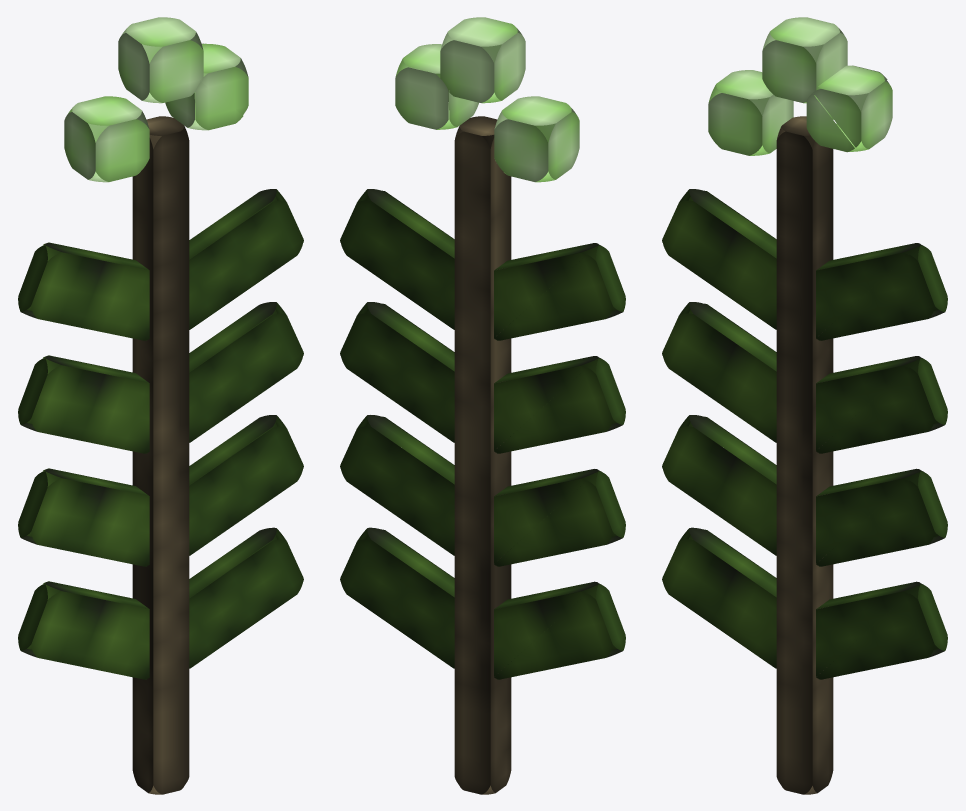
The model's file is bog_myrtle.obj.
3 renders of one model, left to right at view 1: azimuth 30°, elevation 25°; view 2: azimuth 150°, elevation 25°; view 3: azimuth 330°, elevation 25°, orthographic.
Parts seen in each view (by area): view 1: lit, fire; view 2: lit, fire; view 3: lit, fire.
Part boxes in pixels (bbox=[...]): lit: bbox=[18, 116, 303, 794]; fire: bbox=[64, 17, 248, 182]; lit: bbox=[340, 116, 625, 794]; fire: bbox=[395, 17, 579, 182]; lit: bbox=[662, 116, 947, 794]; fire: bbox=[708, 17, 892, 155].
Size of the model in its own units: 0.3902 by 1 by 0.0782.
